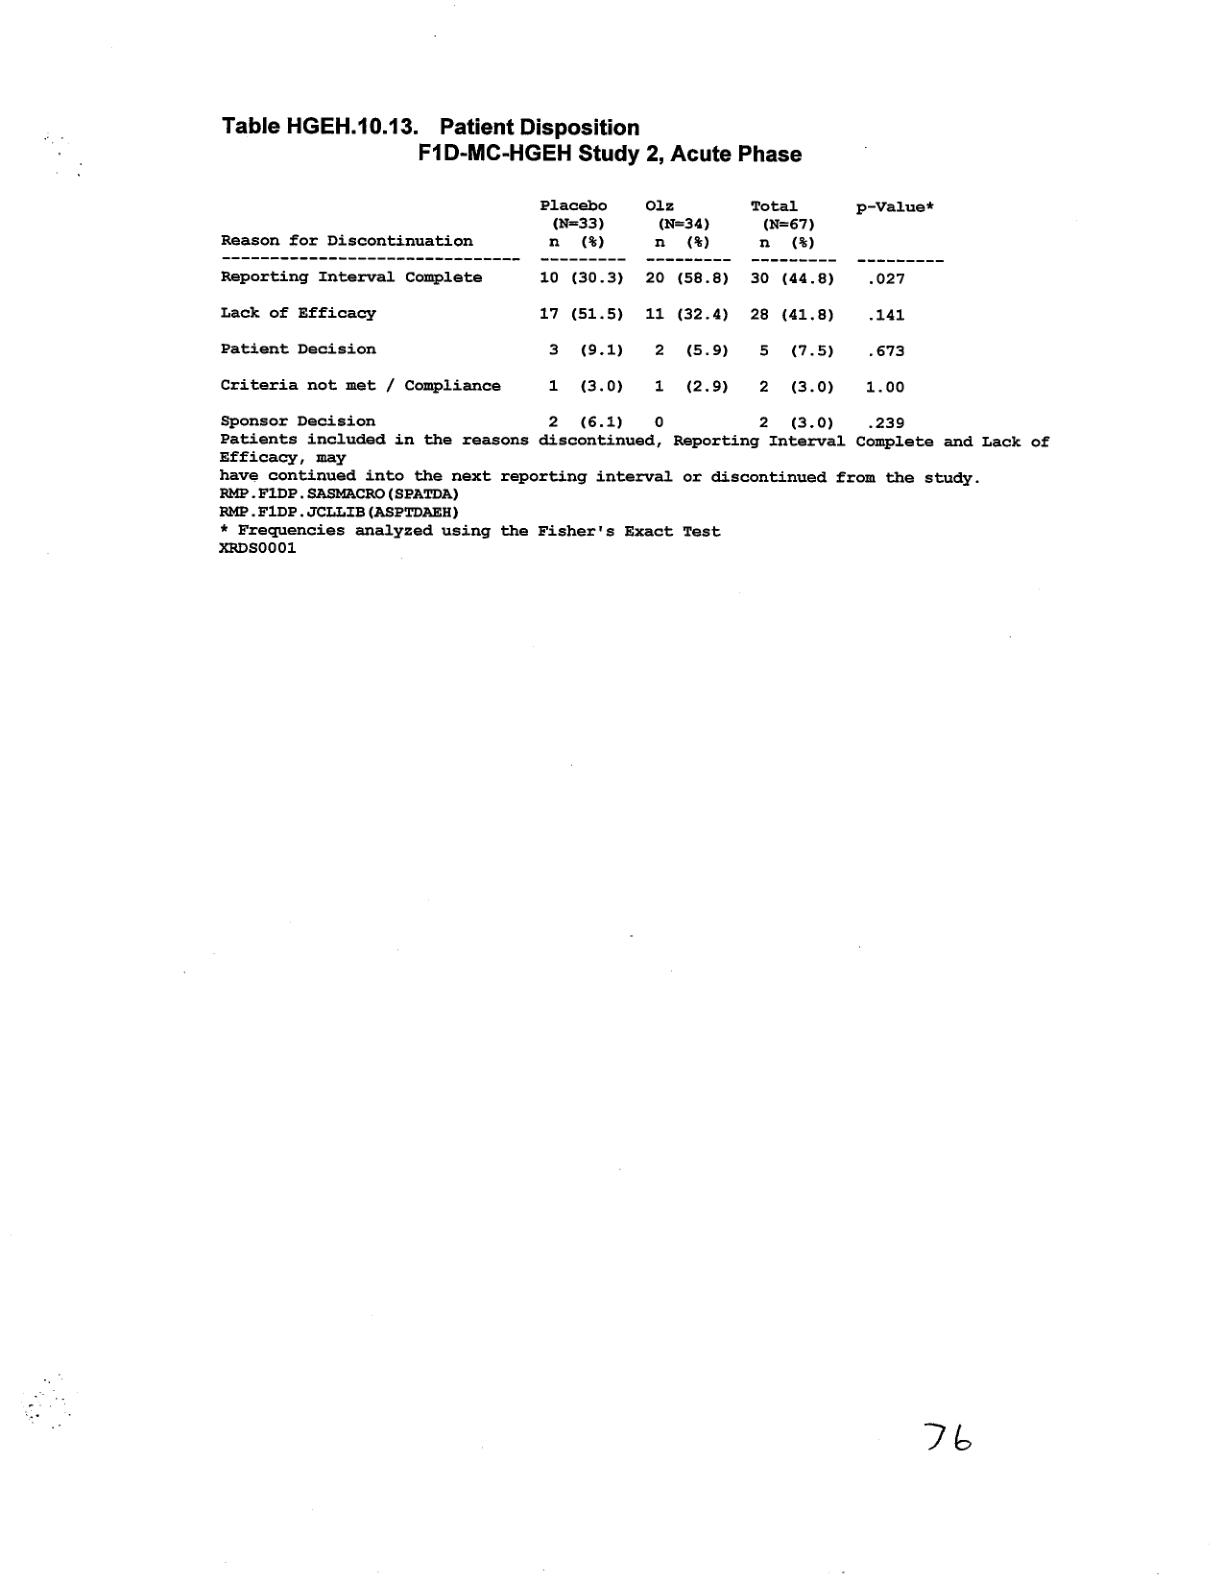nolines: (216, 196, 944, 431)
